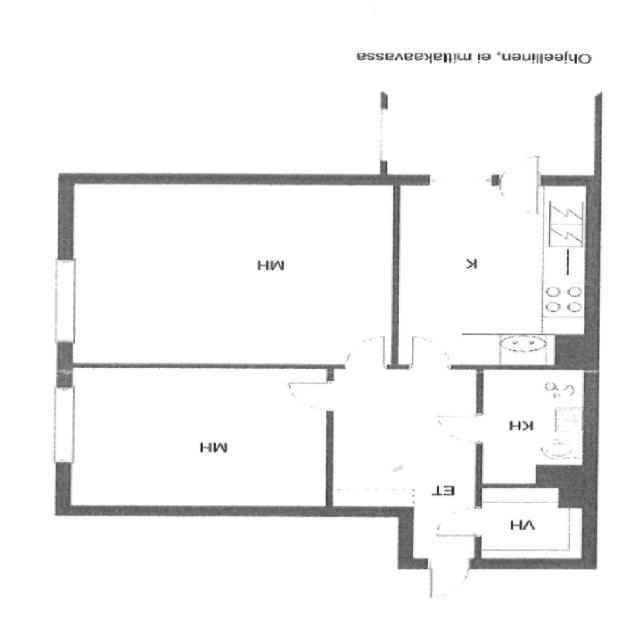door: (495, 154, 547, 215), (419, 559, 476, 604), (429, 502, 487, 543), (430, 408, 488, 446), (340, 332, 393, 372), (403, 332, 454, 371), (281, 377, 337, 412)
window: (42, 248, 85, 352), (40, 377, 83, 471), (423, 170, 498, 189)
zone: (61, 178, 408, 366), (61, 364, 331, 514), (389, 179, 591, 365), (326, 369, 486, 511), (478, 365, 588, 485), (476, 485, 586, 565)
